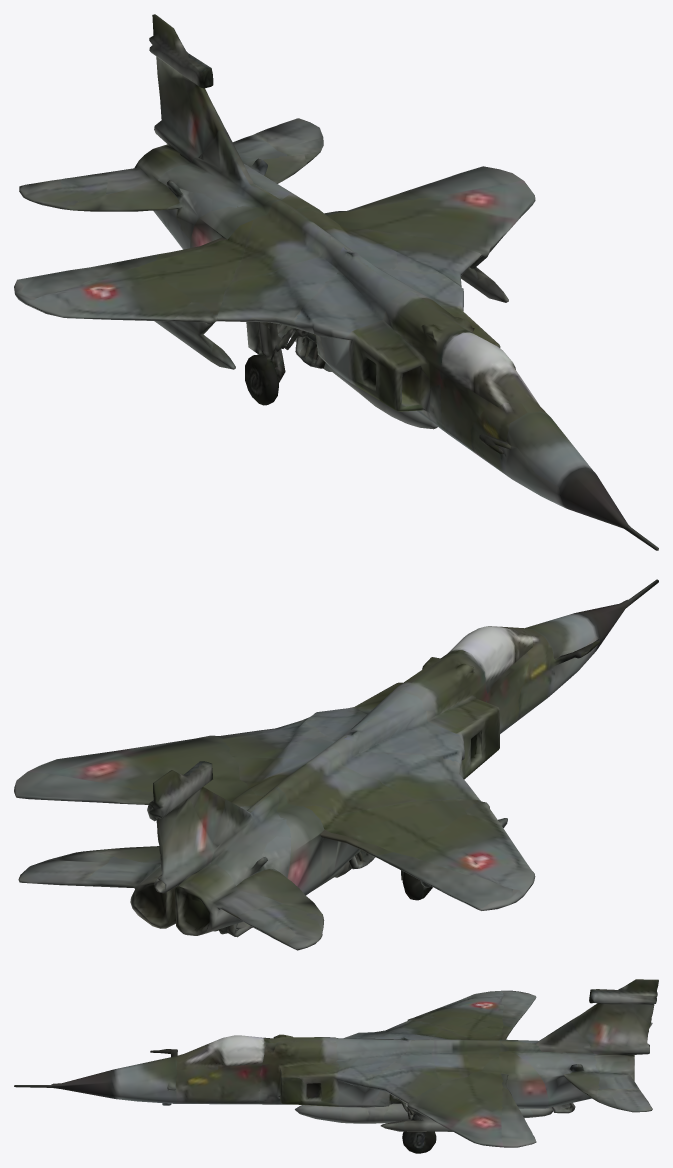
Rendered from jaguar_darin3.glb.
3 renders of one model, top to bottom at view 1: azimuth 30°, elevation 25°; view 2: azimuth 150°, elevation 25°; view 3: azimuth 270°, elevation 25°, orthographic. The views are drawn at different scales.
Visible parts, largest first — view 1: tripo_node_90e7a722-4315-4ce1-a901-0a6cd54d411e; view 2: tripo_node_90e7a722-4315-4ce1-a901-0a6cd54d411e; view 3: tripo_node_90e7a722-4315-4ce1-a901-0a6cd54d411e.
Part boxes in pixels (bbox=[...]): tripo_node_90e7a722-4315-4ce1-a901-0a6cd54d411e: bbox=[14, 14, 658, 550]; tripo_node_90e7a722-4315-4ce1-a901-0a6cd54d411e: bbox=[14, 579, 658, 950]; tripo_node_90e7a722-4315-4ce1-a901-0a6cd54d411e: bbox=[14, 979, 658, 1153].
Bounding box in the file's own units: 0.5713 × 0.2549 × 0.9999.
1 material, 1 textured.
